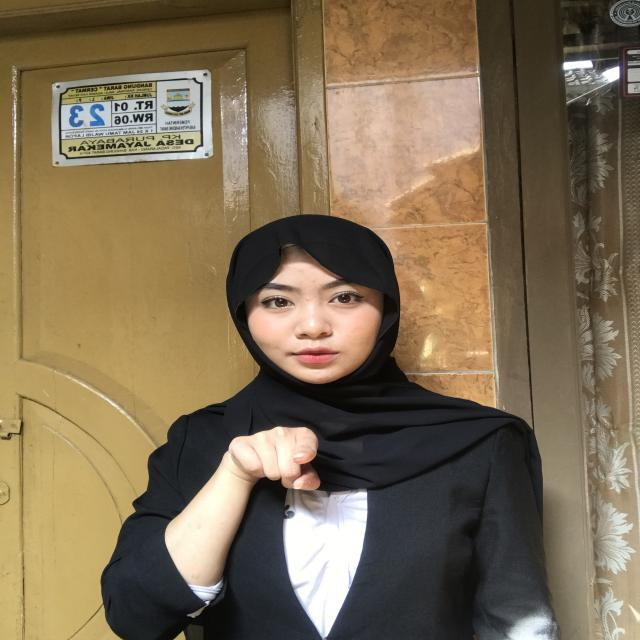kamu: (212, 398, 345, 533)
